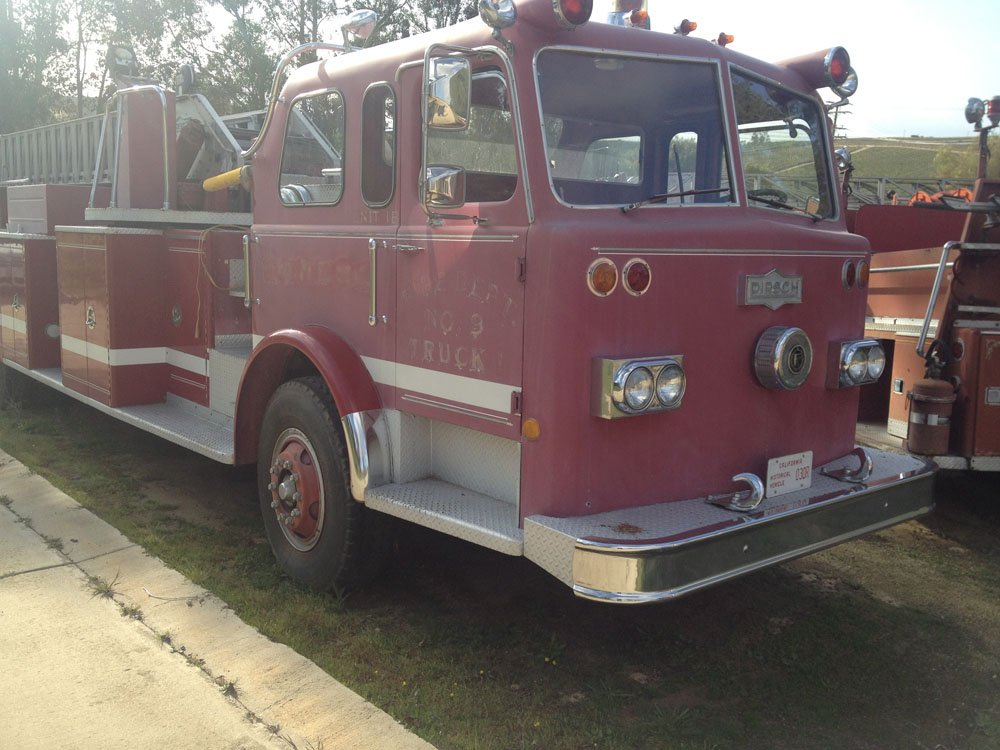firetruck: (12, 1, 944, 617)
